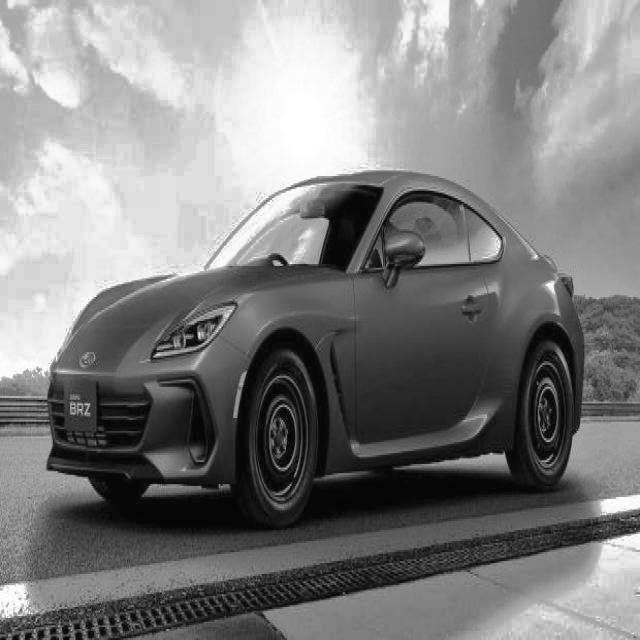Car: (41, 157, 599, 527)
